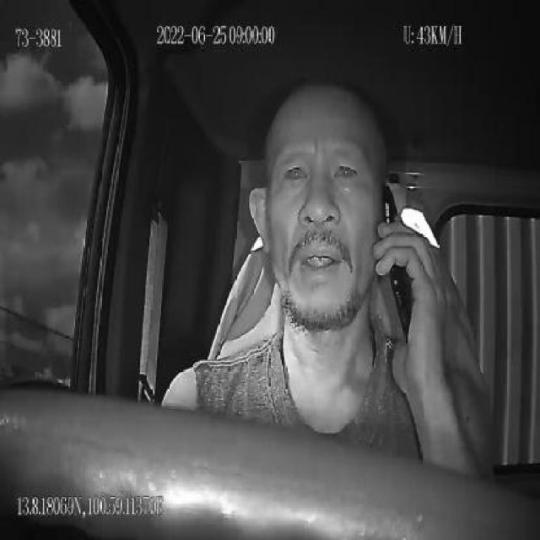phone: (380, 183, 414, 342)
